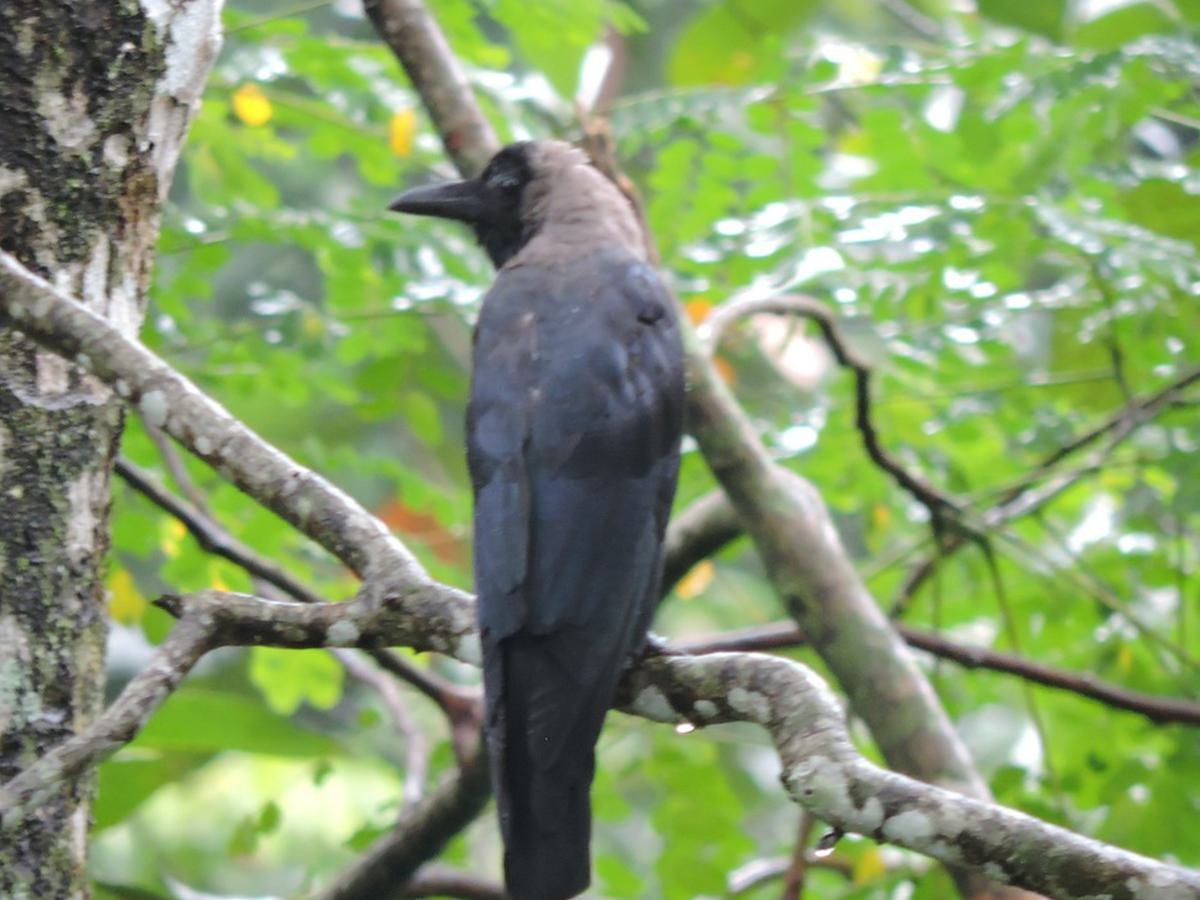crow: (369, 130, 698, 853)
